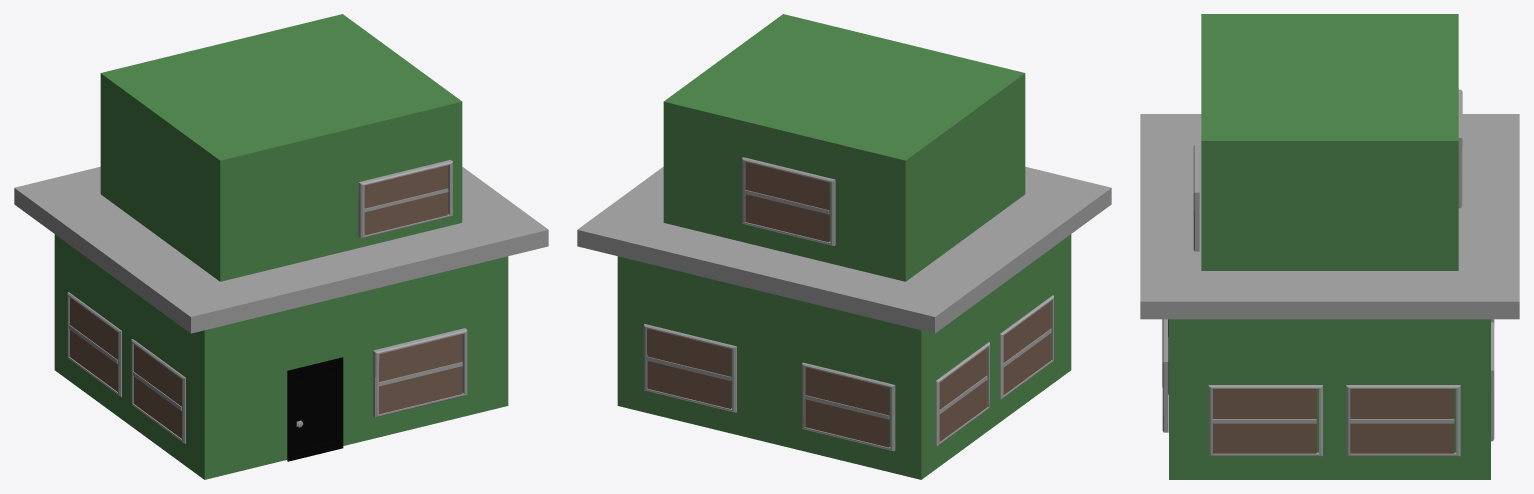
File: Building2.fbx
The picture shows the model from 3 angles, left to right: view 1: azimuth 30°, elevation 25°; view 2: azimuth 150°, elevation 25°; view 3: azimuth 270°, elevation 25°; orthographic projection. The views are drawn at different scales.
Visible parts, largest first — view 1: pCube360, pCube358, pCube359, polySurface759, polySurface758, pSphere42, polySurface762, polySurface763; view 2: pCube360, pCube358, pCube359, polySurface766, polySurface765, polySurface761, polySurface762, polySurface763; view 3: pCube360, pCube359, pCube358, polySurface764, polySurface760, polySurface759, polySurface758, polySurface766, polySurface761.
Part boxes in pixels (x1,y1,x2,y2): pCube360: [100, 14, 462, 281]; pCube358: [54, 234, 508, 479]; pCube359: [14, 166, 548, 333]; polySurface759: [373, 328, 467, 417]; polySurface758: [358, 159, 452, 238]; pSphere42: [287, 357, 343, 461]; polySurface762: [131, 339, 185, 443]; polySurface763: [67, 292, 121, 396]; pCube360: [663, 14, 1025, 281]; pCube358: [617, 234, 1071, 479]; pCube359: [577, 166, 1111, 333]; polySurface766: [742, 157, 835, 246]; polySurface765: [802, 362, 895, 451]; polySurface761: [643, 324, 736, 412]; polySurface762: [999, 295, 1053, 399]; polySurface763: [935, 342, 989, 446]; pCube360: [1201, 14, 1458, 270]; pCube359: [1140, 114, 1519, 319]; pCube358: [1169, 319, 1490, 479]; polySurface764: [1346, 385, 1460, 456]; polySurface760: [1208, 385, 1322, 456]; polySurface759: [1162, 319, 1168, 432]; polySurface758: [1193, 144, 1199, 251]; polySurface766: [1458, 89, 1462, 208]; polySurface761: [1491, 322, 1494, 441].
Size of the model in its own units: 191 by 154 by 164.
